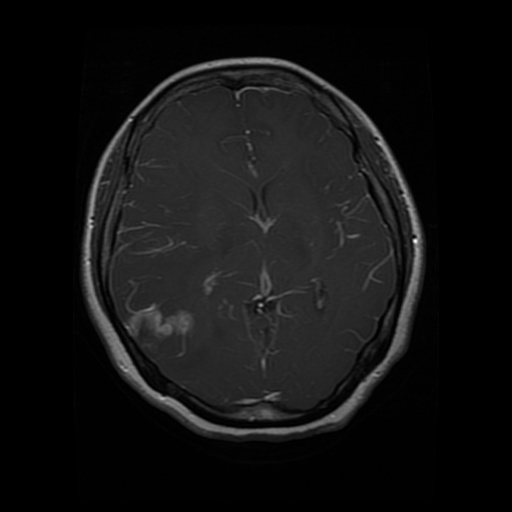glioma: (124, 304, 197, 343)
